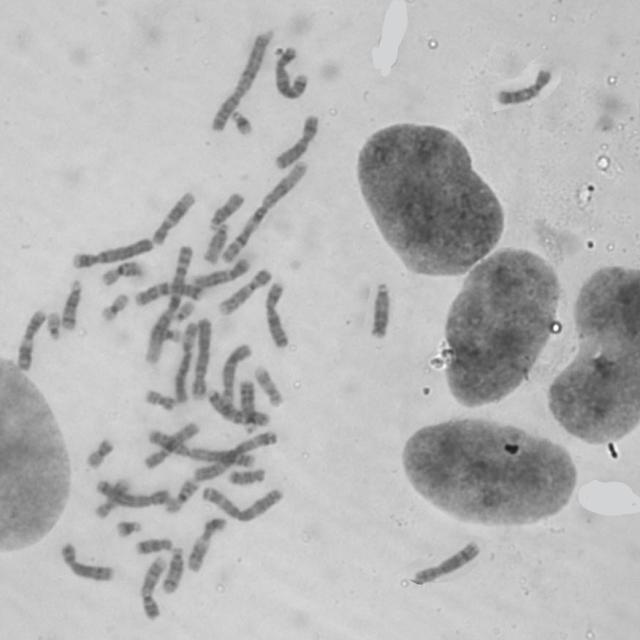A1: (218, 158, 310, 264), (143, 242, 195, 366)
A2: (207, 26, 273, 133), (145, 426, 258, 469)
A3: (191, 428, 279, 482), (199, 482, 285, 523)
B4: (68, 234, 154, 269), (188, 316, 212, 401)
B5: (92, 476, 172, 509), (271, 44, 310, 100)
C10: (140, 419, 202, 471), (492, 64, 554, 106)
C11: (186, 515, 227, 573), (14, 306, 46, 372)
C12: (149, 188, 197, 246), (190, 256, 252, 289)
C6: (218, 340, 253, 408), (172, 318, 198, 404)
C7: (206, 385, 270, 425), (132, 280, 204, 308)
C8: (412, 538, 482, 584), (58, 540, 115, 584)
C9: (216, 266, 273, 316), (137, 553, 168, 621)
D13: (366, 278, 393, 340), (236, 376, 258, 433)
D14: (59, 277, 84, 331), (159, 545, 186, 594)
D15: (206, 188, 247, 231), (201, 219, 231, 265)
E16: (161, 474, 201, 514), (99, 258, 144, 287)
E17: (92, 476, 132, 520), (252, 362, 284, 408)
E18: (225, 464, 267, 486), (133, 535, 175, 555)
F19: (98, 291, 130, 323), (151, 325, 186, 345)
F20: (82, 435, 114, 470), (142, 386, 177, 412)
G21: (228, 106, 256, 137), (113, 518, 143, 539)
G22: (170, 297, 196, 324), (44, 308, 63, 342)
X: (271, 111, 321, 170), (261, 278, 290, 349)
